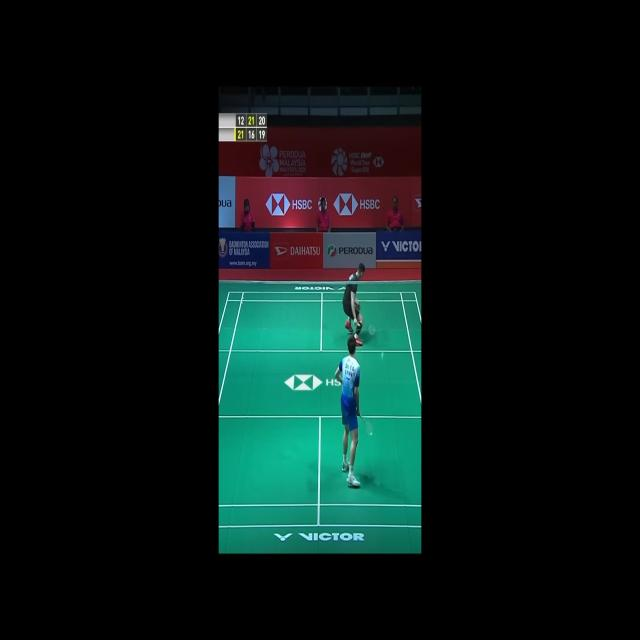shuttle-P15u: (382, 352, 385, 361)
